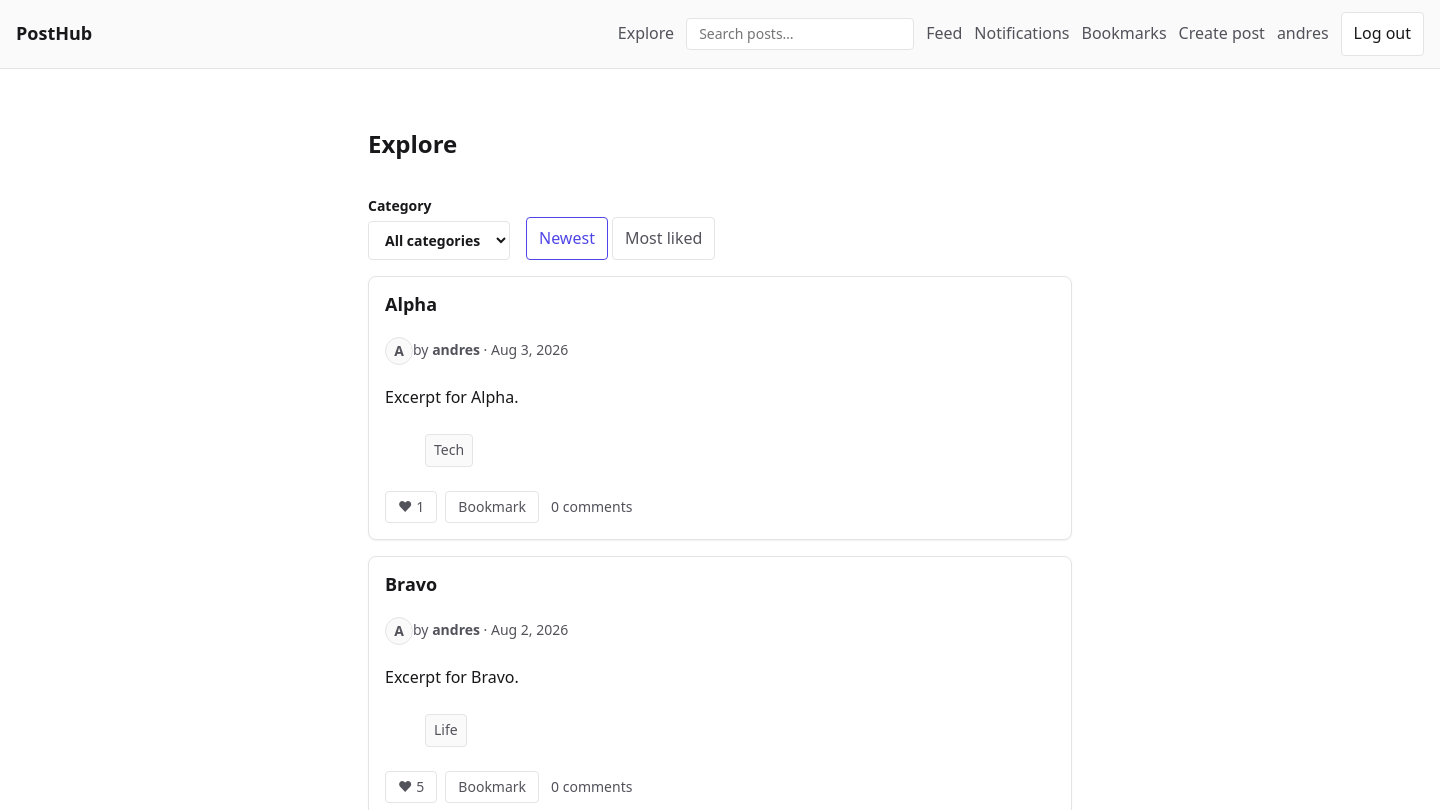
Test: engagement › toggles a bookmark
Check: the link "Alpha" is shown, box [385,292,437,316]
Click the button "Bookmark" below "Tech".
click(492, 507)  # box [445,491,539,523]
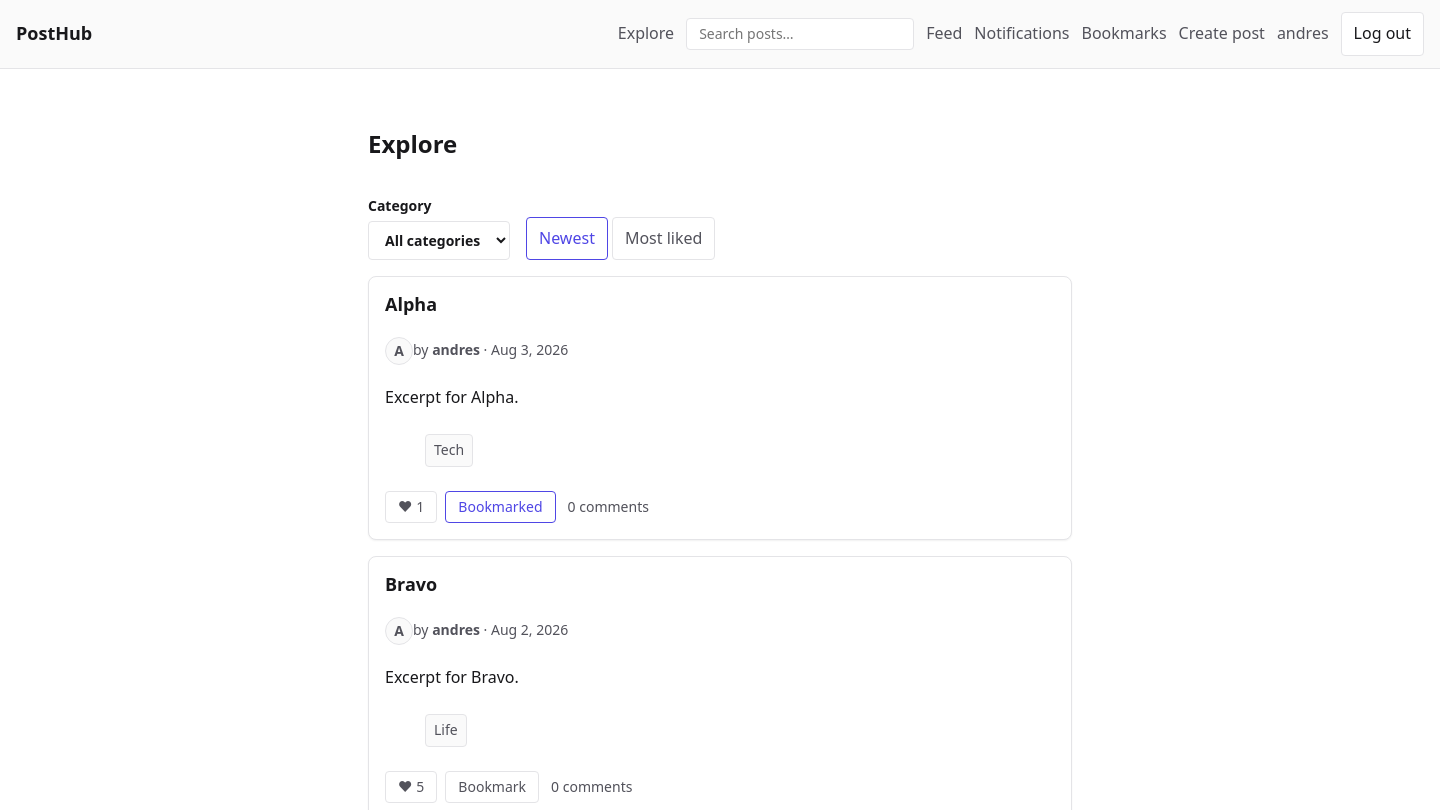
Check: the button "Bookmarked" is shown, box [445,491,556,523]
